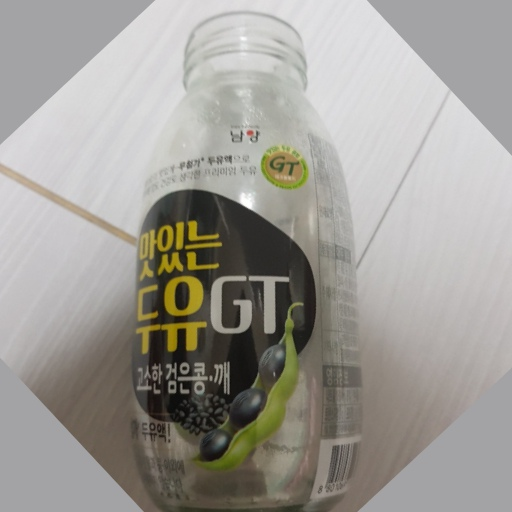Glass_4: (135, 11, 368, 508)
